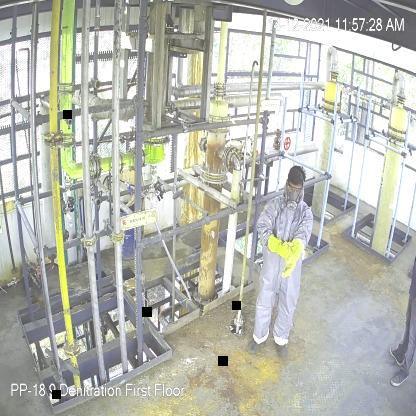goggles: (287, 182, 303, 192)
mask: (285, 190, 300, 210)
